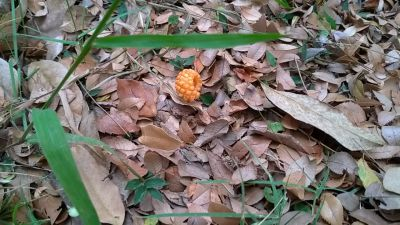eggs: (172, 64, 203, 103)
